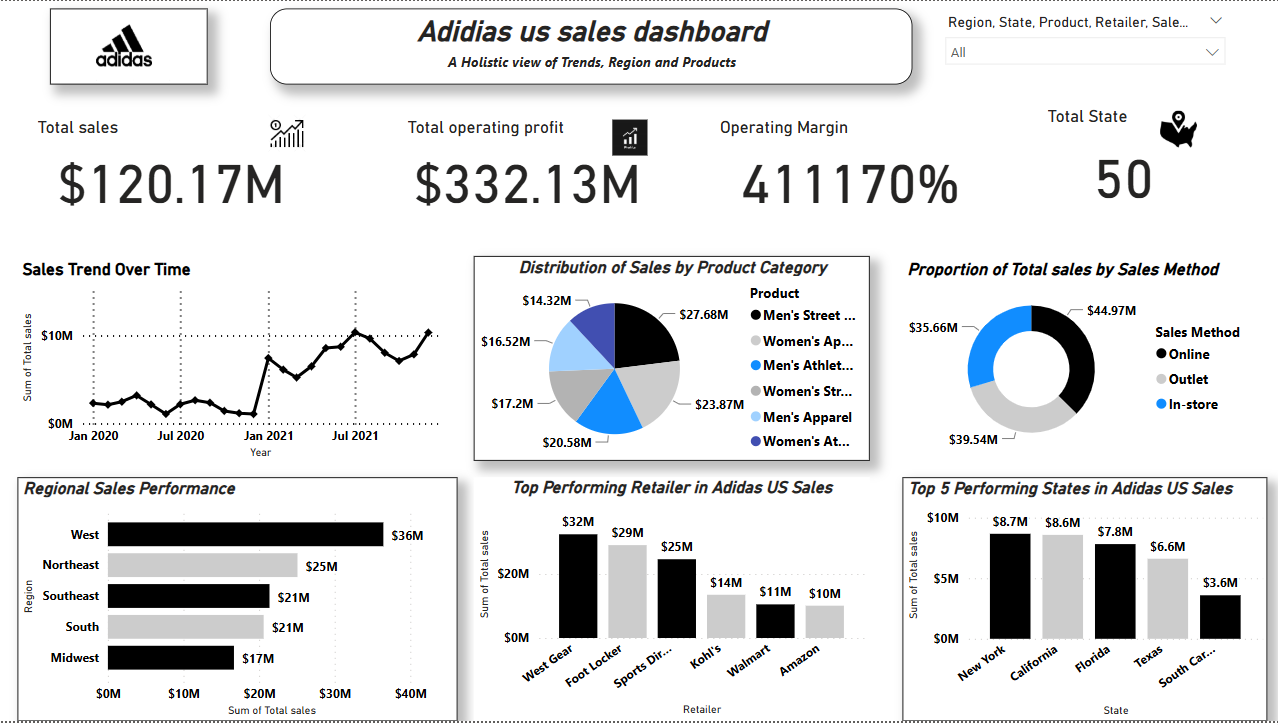

Layout of this report page (visuals, bound fields, positions):
{"tool":"powerbi","page":{"name":"Page 1","canvas":[1280,720],"ordinal":0},"visuals":[{"type":"textbox","title":"Adidias us sales dashboard","box":[270,7.5,642.5,76.2],"z":0},{"type":"image","box":[50,7.5,157.5,76.2],"z":1000},{"type":"card","title":"Total sales","fields":{"Values":["Sum(cleaned.Total sales )"]},"box":[32.5,116.2,277.5,101.2],"z":3000},{"type":"card","title":"Total operating profit","fields":{"Values":["Sum(cleaned.Operating Profit)"]},"box":[402.5,116.2,250,101.2],"z":4000},{"type":"donutChart","title":"Proportion of Total sales  by Sales Method","fields":{"Y":["Sum(cleaned.Total sales )"],"Category":["cleaned.Sales Method"]},"box":[902.5,257.5,365,202.5],"z":9000},{"type":"pieChart","title":" Distribution of Sales by Product Category","fields":{"Y":["Sum(cleaned.Total sales )"],"Category":["cleaned.Product"]},"box":[473.8,255,396.2,205],"z":10000},{"type":"clusteredBarChart","title":"Regional Sales Performance","fields":{"Category":["cleaned.Region"],"Y":["Sum(cleaned.Total sales )"]},"box":[17.5,476.2,440,243.8],"z":12001},{"type":"card","title":"Operating Margin","fields":{"Values":["Sum(cleaned.Operating Margin)"]},"box":[715,116.2,271.2,101.2],"z":12002},{"type":"card","title":"Total State","fields":{"Values":["Count(cleaned.State)"]},"box":[1042.5,105,161.2,113.8],"z":12003},{"type":"lineChart","title":"Sales Trend Over Time","fields":{"Y":["Sum(cleaned.Total sales )"],"Category":["cleaned.Invoice Date.Variation.Date Hierarchy.Year","cleaned.Invoice Date.Variation.Date Hierarchy.Month"]},"box":[17.5,257.5,440,205],"z":12004},{"type":"clusteredColumnChart","title":"Top Performing Retailer in Adidas US Sales","fields":{"Category":["cleaned.Retailer"],"Y":["Sum(cleaned.Total sales )"]},"box":[473.8,476.2,396.2,243.8],"z":12005},{"type":"clusteredColumnChart","title":"Top 5 Performing States in  Adidas US Sales","fields":{"Y":["Sum(cleaned.Total sales )"],"Category":["cleaned.State"]},"box":[902.5,476.2,365,243.8],"z":12006},{"type":"image","box":[1153.8,105,50,46.2],"z":12007},{"type":"image","box":[263.8,105,46.2,55],"z":12008},{"type":"image","box":[607.5,113.8,45,46.2],"z":12009},{"type":"slicer","fields":{"Values":["cleaned.Region","cleaned.State","cleaned.Product","cleaned.Retailer","cleaned.Sales Method"]},"box":[935,7.5,300,76.2],"z":12010}]}

Visuals, with their boxes in screenshot pixels (x1, y1, x2, y2), scaled from the page's 1280x720 canvas onto the 1278x725 screenshot:
"Adidias us sales dashboard" textbox: 270:8:911:84
image: 50:8:207:84
"Total sales" card: 32:117:310:219
"Total operating profit" card: 402:117:651:219
"Proportion of Total sales  by Sales Method" donutChart: 901:259:1266:463
" Distribution of Sales by Product Category" pieChart: 473:257:869:463
"Regional Sales Performance" clusteredBarChart: 17:480:457:724
"Operating Margin" card: 714:117:985:219
"Total State" card: 1041:106:1202:220
"Sales Trend Over Time" lineChart: 17:259:457:466
"Top Performing Retailer in Adidas US Sales" clusteredColumnChart: 473:480:869:724
"Top 5 Performing States in  Adidas US Sales" clusteredColumnChart: 901:480:1266:724
image: 1152:106:1202:152
image: 263:106:310:161
image: 607:115:651:161
slicer - cleaned.Region x cleaned.State: 934:8:1233:84
